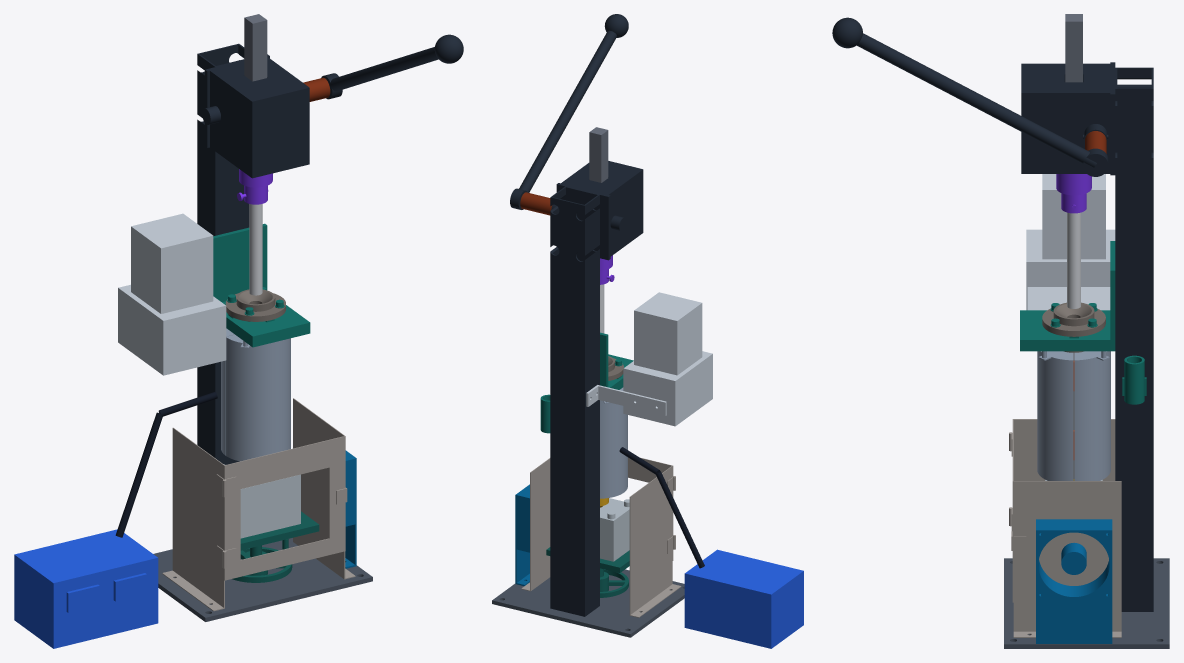
3 views of the same model, side by side, from view 1: azimuth 30°, elevation 25°; view 2: azimuth 150°, elevation 25°; view 3: azimuth 270°, elevation 25° (orthographic). The views are drawn at different scales.
Parts seen in each view (by area): view 1: Nozzle zone shield, Column, drive head and ratchet handle, Fume hood and duct, Control box with PID and SSR, Insulation jacket and guard, Base plate, Barrel bracket and heat break, Aluminum mold set, Mold clamp (screw lift table), Rack ram, Heater and sensor wiring, Heated barrel (+3 smaller); view 2: Column, drive head and ratchet handle, Fume hood and duct, Control box with PID and SSR, Nozzle zone shield, Base plate, Insulation jacket and guard, Aluminum mold set, Mold cooling fan, Rack ram, Mold clamp (screw lift table), Heater and sensor wiring, Barrel bracket and heat break (+1 smaller); view 3: Column, drive head and ratchet handle, Nozzle zone shield, Insulation jacket and guard, Fume hood and duct, Mold cooling fan, Base plate, Barrel bracket and heat break, Heated barrel, Plunger, 22 mm, Rack ram, Plunger load cell and spacer, Plunger rest.
Part boxes in pixels (x1,y1,x2,y2): Nozzle zone shield: [162, 398, 355, 611]; Column, drive head and ratchet handle: [197, 34, 463, 464]; Fume hood and duct: [118, 213, 226, 375]; Control box with PID and SSR: [14, 529, 158, 648]; Insulation jacket and guard: [221, 328, 290, 461]; Base plate: [153, 538, 372, 621]; Barrel bracket and heat break: [213, 223, 310, 347]; Aluminum mold set: [223, 464, 300, 538]; Mold clamp (screw lift table): [232, 511, 319, 582]; Rack ram: [244, 14, 267, 81]; Heater and sensor wiring: [115, 391, 217, 537]; Heated barrel: [225, 289, 285, 321]; Column, drive head and ratchet handle: [510, 14, 643, 616]; Fume hood and duct: [586, 292, 712, 426]; Control box with PID and SSR: [684, 549, 803, 648]; Nozzle zone shield: [521, 457, 681, 617]; Base plate: [492, 569, 684, 637]; Insulation jacket and guard: [600, 387, 627, 498]; Aluminum mold set: [600, 498, 629, 561]; Mold cooling fan: [515, 484, 529, 586]; Rack ram: [589, 127, 608, 182]; Mold clamp (screw lift table): [546, 547, 629, 597]; Heater and sensor wiring: [619, 447, 704, 568]; Barrel bracket and heat break: [600, 332, 633, 389]; Column, drive head and ratchet handle: [832, 17, 1153, 611]; Nozzle zone shield: [1009, 419, 1121, 637]; Insulation jacket and guard: [1037, 351, 1110, 480]; Fume hood and duct: [1026, 174, 1115, 310]; Mold cooling fan: [1036, 519, 1112, 643]; Base plate: [1004, 558, 1169, 648]; Barrel bracket and heat break: [1020, 241, 1115, 351]; Heated barrel: [1042, 302, 1105, 478]; Plunger, 22 mm: [1067, 212, 1080, 308]; Rack ram: [1065, 14, 1082, 82]; Plunger load cell and spacer: [1056, 174, 1091, 213]; Plunger rest: [1122, 355, 1146, 404].
Size of the model in its own units: 0.618 by 1.09 by 0.5297.
